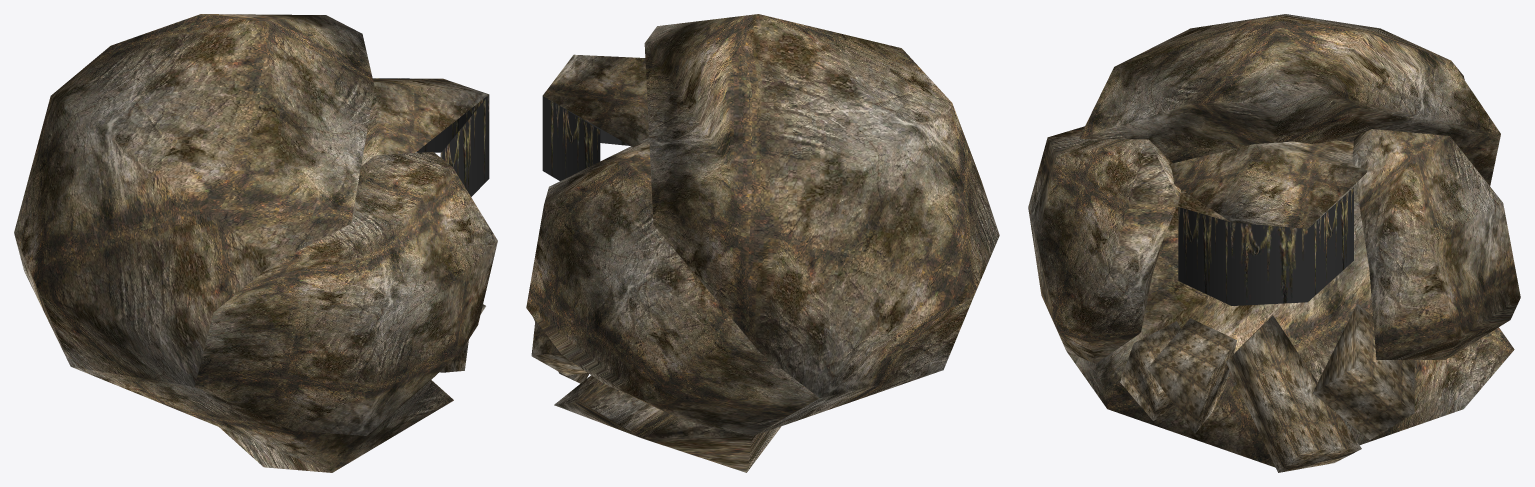
Rendered from poi_all_lair_rock_shelter_small_l2.fbx.
3 renders of one model, left to right at view 1: azimuth 30°, elevation 25°; view 2: azimuth 150°, elevation 25°; view 3: azimuth 270°, elevation 25°, orthographic. The views are drawn at different scales.
Parts seen in each view (by area): view 1: mesh_node; view 2: mesh_node; view 3: mesh_node.
Boxes of the visible parts, x1=… form: mesh_node: x1=14, y1=14, x2=497, y2=472; mesh_node: x1=526, y1=14, x2=999, y2=472; mesh_node: x1=1028, y1=14, x2=1520, y2=472.
Bounding box in the file's own units: 1.96 × 1.98 × 1.98.
